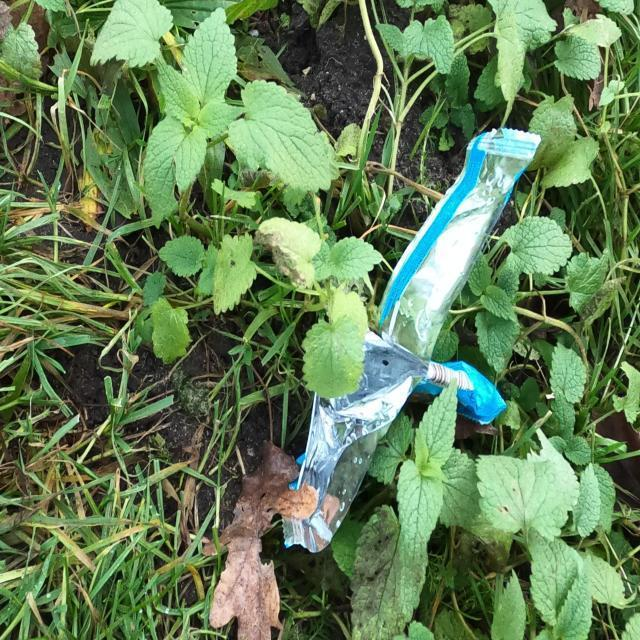Plastic: (280, 123, 545, 557)
